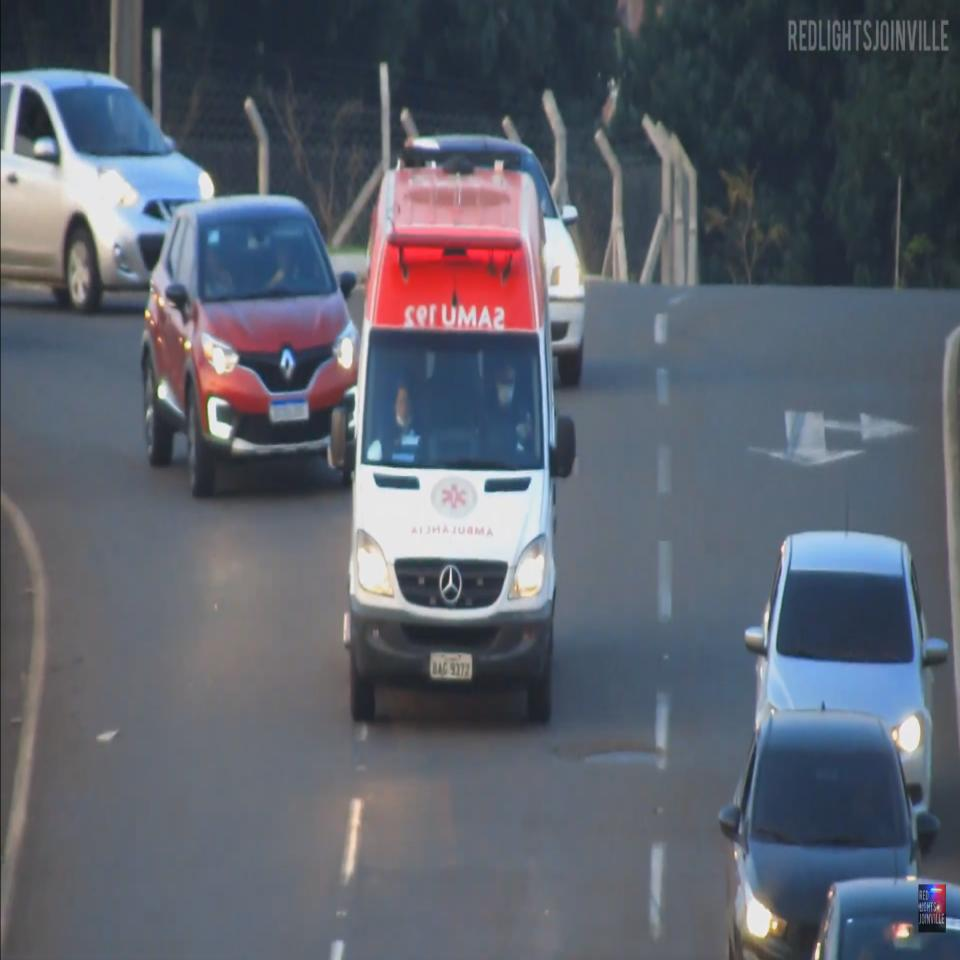bombeiro: (332, 146, 580, 719)
